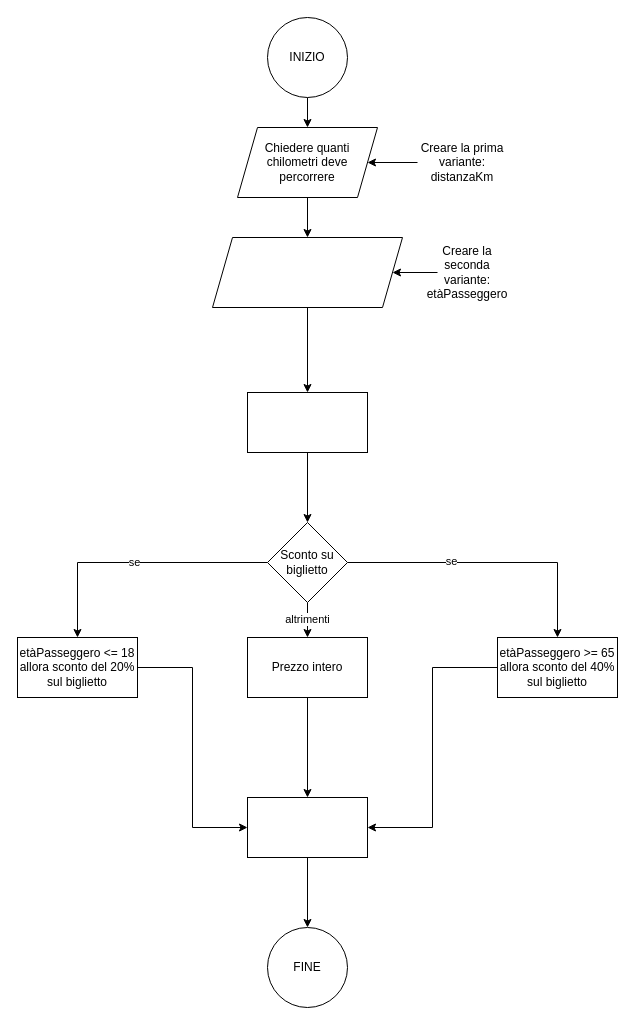
The diagram is 635 pixels wide and 1025 high, and some of its shapes have lost their labels. The centre of each missing label's shape, as x and y in pixels:
calcolare il prezzo intero del biglietto km * 0.21€: (307,422)
Chiedere quanti anni ha il passeggero: (307,272)
Output prezzo (max 2 decimali): (307,827)
